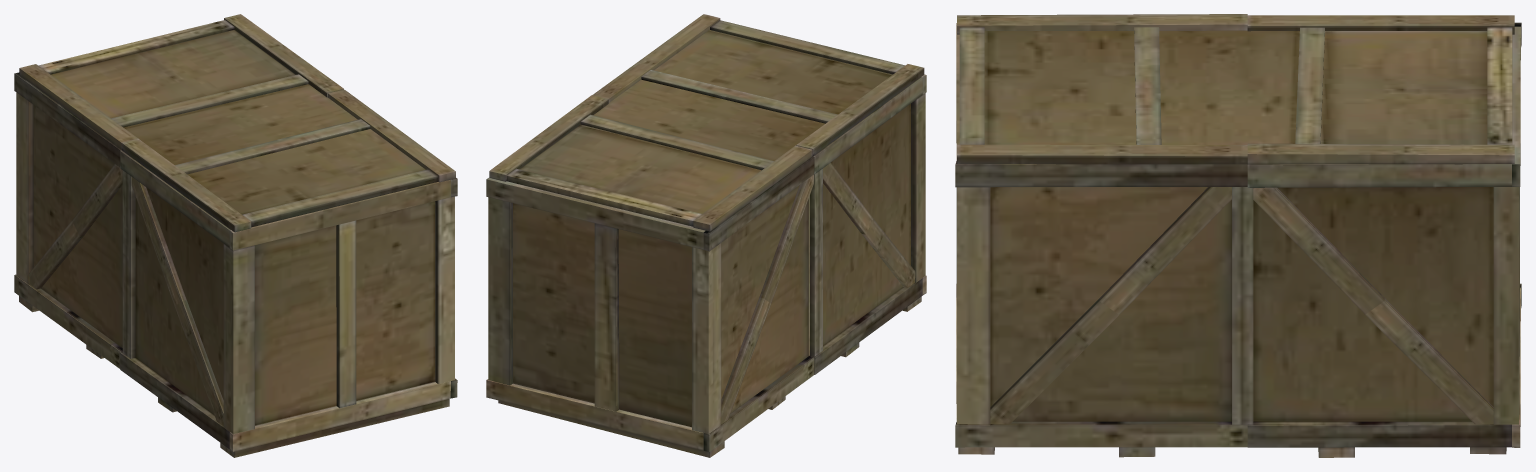
Rendered from wood_crate002a.glb.
3 views of the same model, side by side, from view 1: azimuth 30°, elevation 25°; view 2: azimuth 150°, elevation 25°; view 3: azimuth 270°, elevation 25° (orthographic). The views are drawn at different scales.
Visible parts, largest first — view 1: 0_woodcrates01a; view 2: 0_woodcrates01a; view 3: 0_woodcrates01a.
Part boxes in pixels (left/top/right/bottom): 0_woodcrates01a: left=14, top=14, right=457, bottom=457; 0_woodcrates01a: left=486, top=14, right=926, bottom=457; 0_woodcrates01a: left=955, top=14, right=1521, bottom=457.
Size of the model in its own units: 1.03 by 1.02 by 1.72.
Materials: 1 (1 with a texture image).
